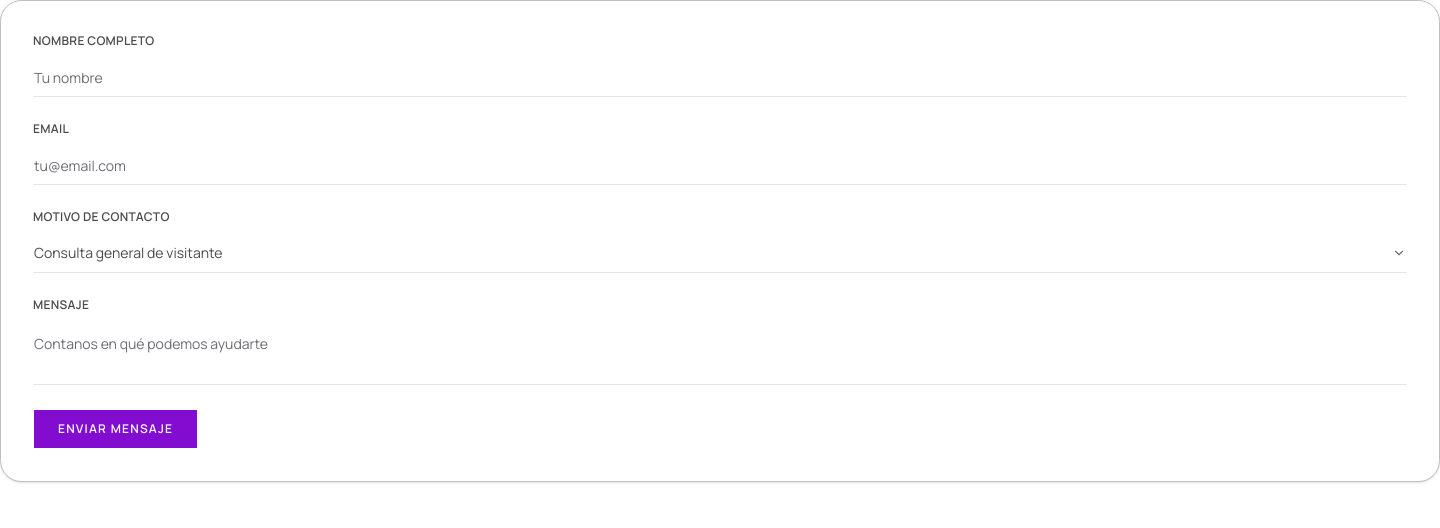
Scenario: ContactForm › should prevent submission with message shorter than 10 characters
The image size is (1440, 528).
In the field with placeholder "Tu nombre": (720, 77) [33, 57, 1407, 97], type "Juan"
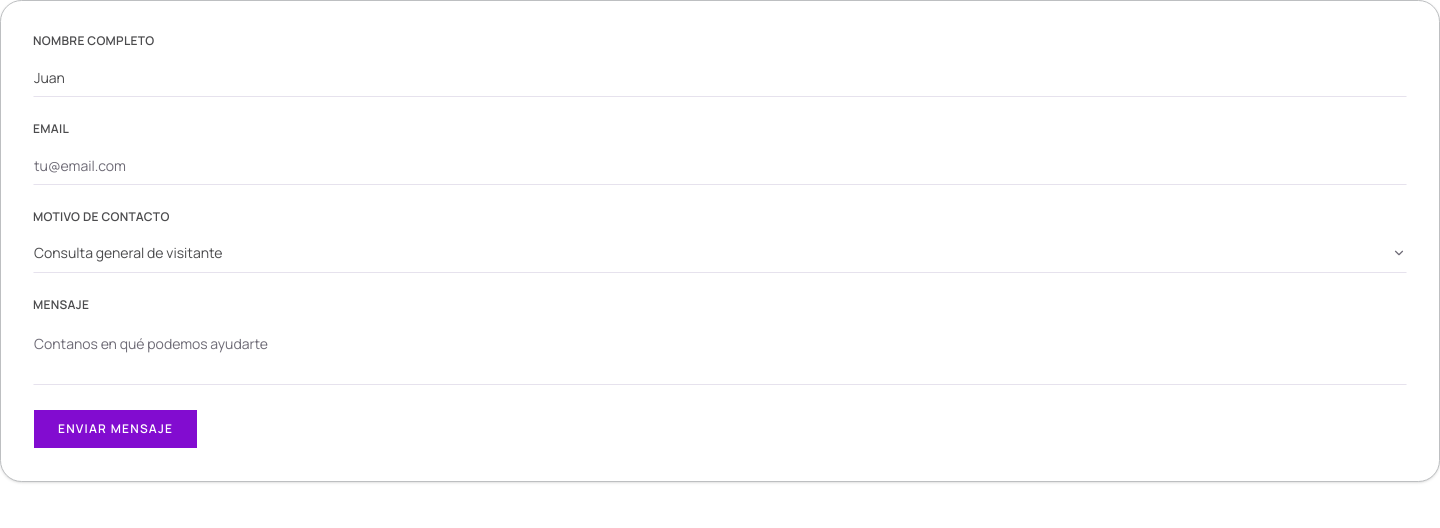
In the field with placeholder "tu@email.com": (720, 165) [33, 145, 1407, 185], type "test@example.com"
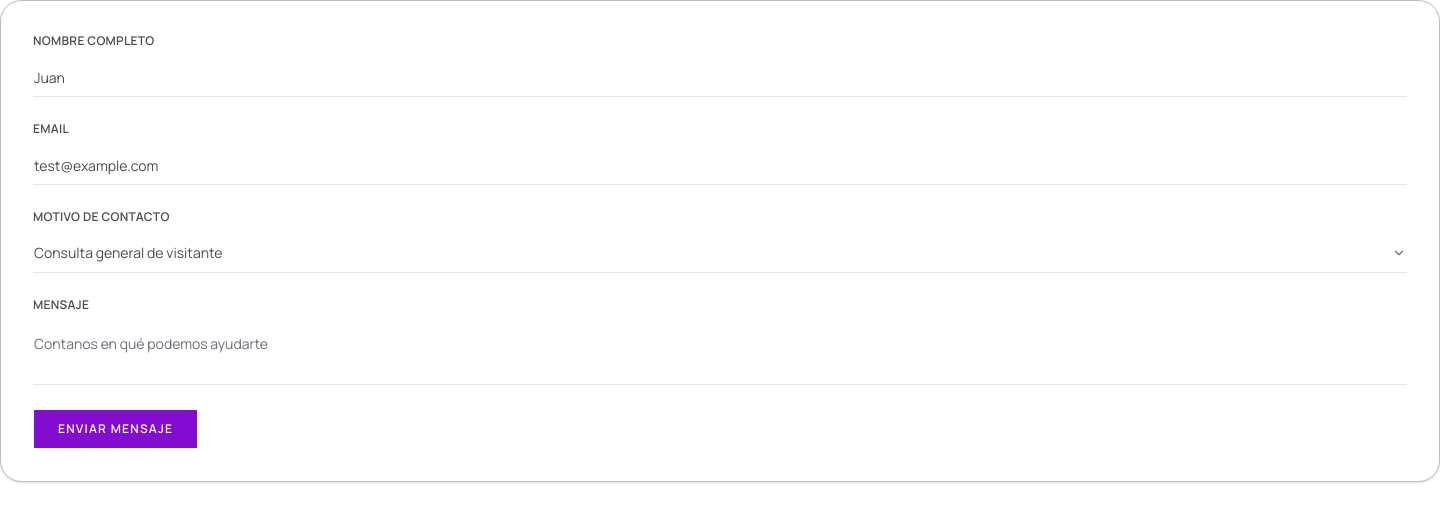
In the text box with placeholder "Contanos en qué podemos ayudarte": (720, 353) [33, 321, 1407, 385], type "Short"
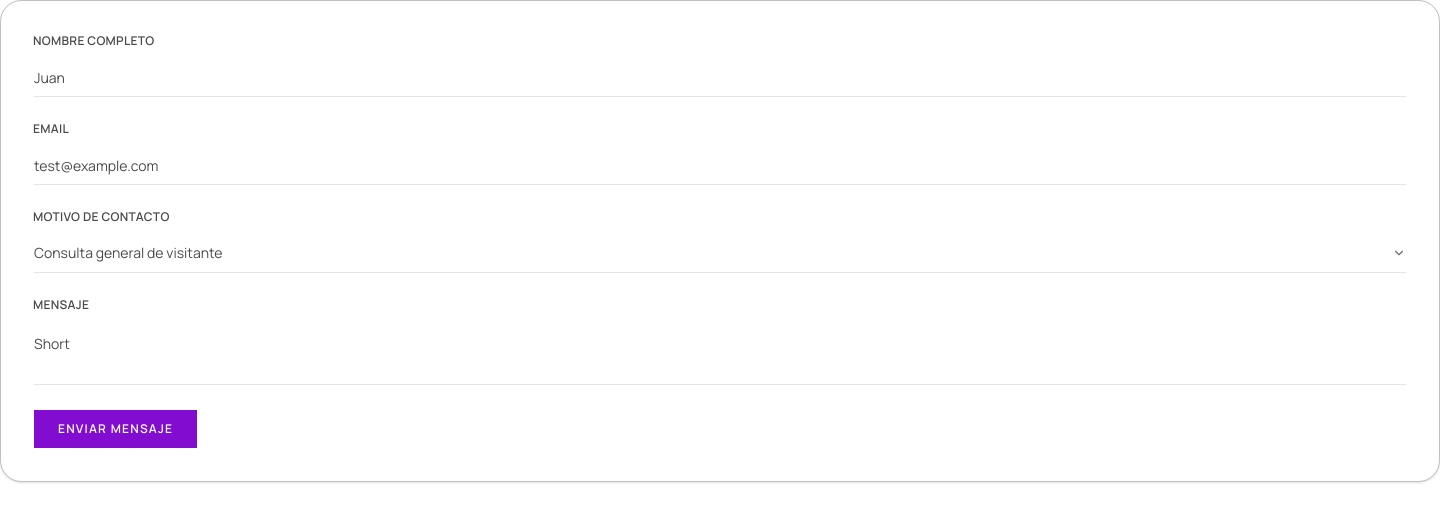
Click the button "Enviar mensaje": (116, 429) [33, 409, 198, 449]
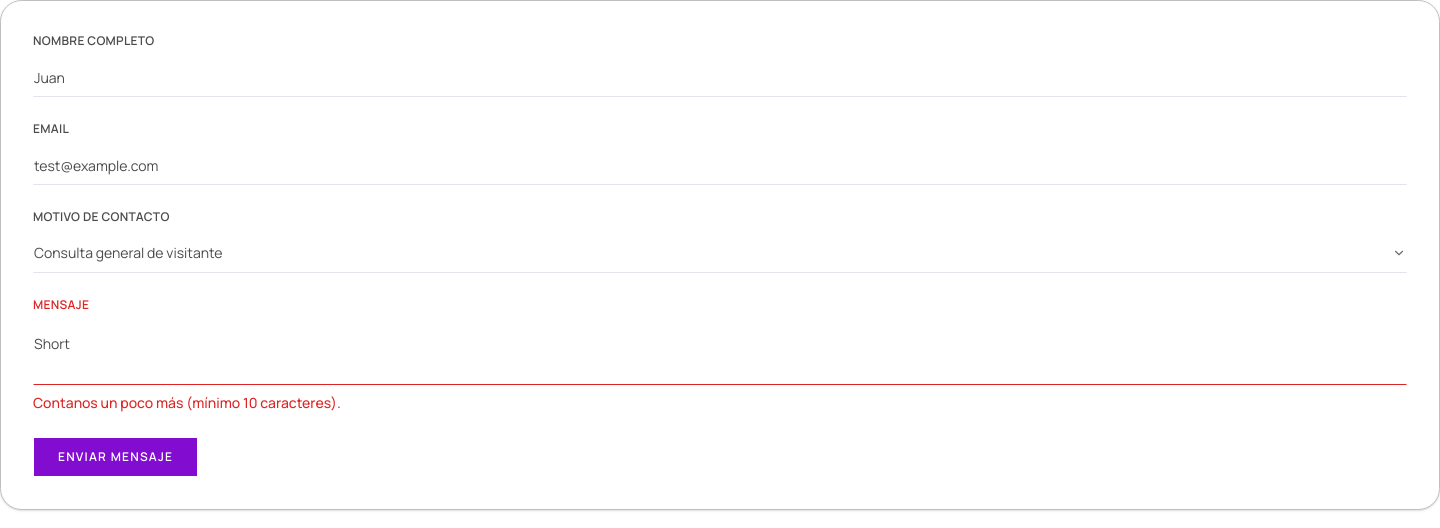
Expected: the text "Contanos un poco más (mínimo 10 caracteres)." is shown, [33, 393, 341, 412]
